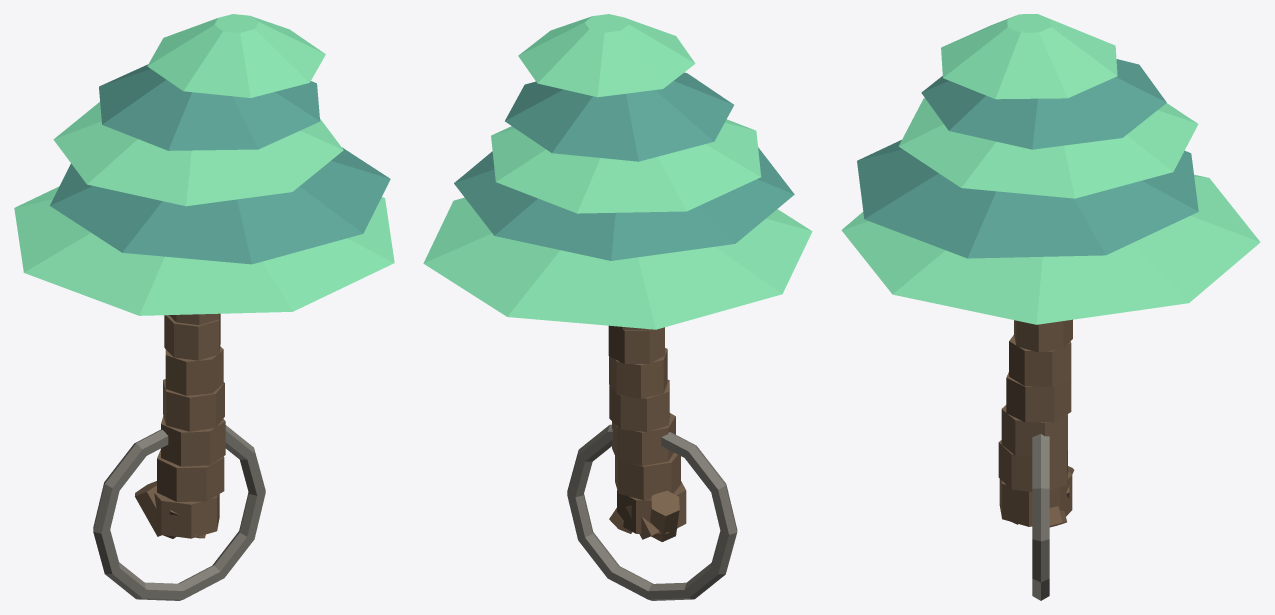
The model's file is ENV_Tree_Pine_Sacred_A01.glb.
3 views of the same model, side by side, from view 1: azimuth 30°, elevation 25°; view 2: azimuth 150°, elevation 25°; view 3: azimuth 270°, elevation 25° (orthographic). The views are drawn at different scales.
Parts seen in each view (by area): view 1: sacred_pine, sacred_pine_stone_ring; view 2: sacred_pine, sacred_pine_stone_ring; view 3: sacred_pine, sacred_pine_stone_ring.
Boxes of the visible parts, x1,y1,x2,y2 form: sacred_pine: (14,14,394,538); sacred_pine_stone_ring: (93,425,265,600); sacred_pine: (423,14,812,541); sacred_pine_stone_ring: (567,424,737,600); sacred_pine: (841,14,1260,527); sacred_pine_stone_ring: (1032,434,1049,600).
Size of the model in its own units: 3.79 by 5.93 by 3.79.
